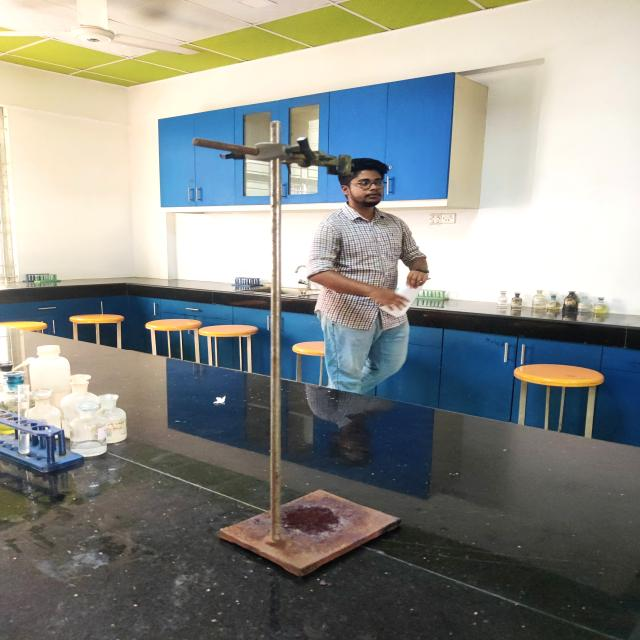Burette_Stands: (171, 112, 418, 590)
